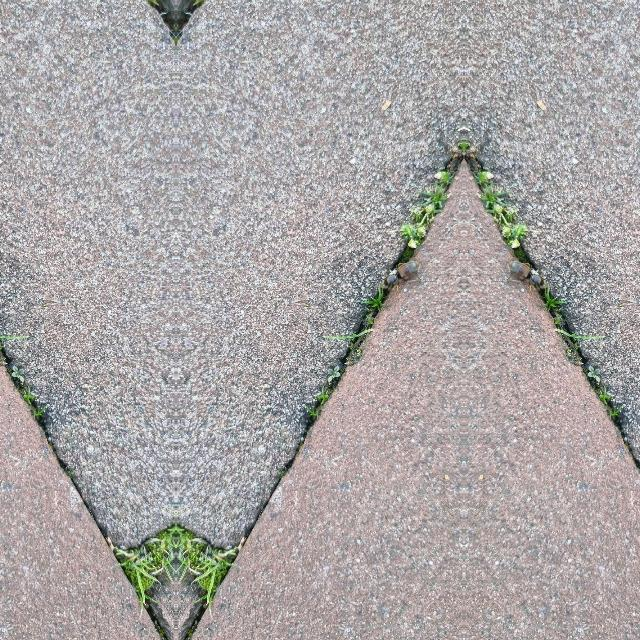Lasius: (370, 254, 422, 296), (504, 254, 556, 296)
